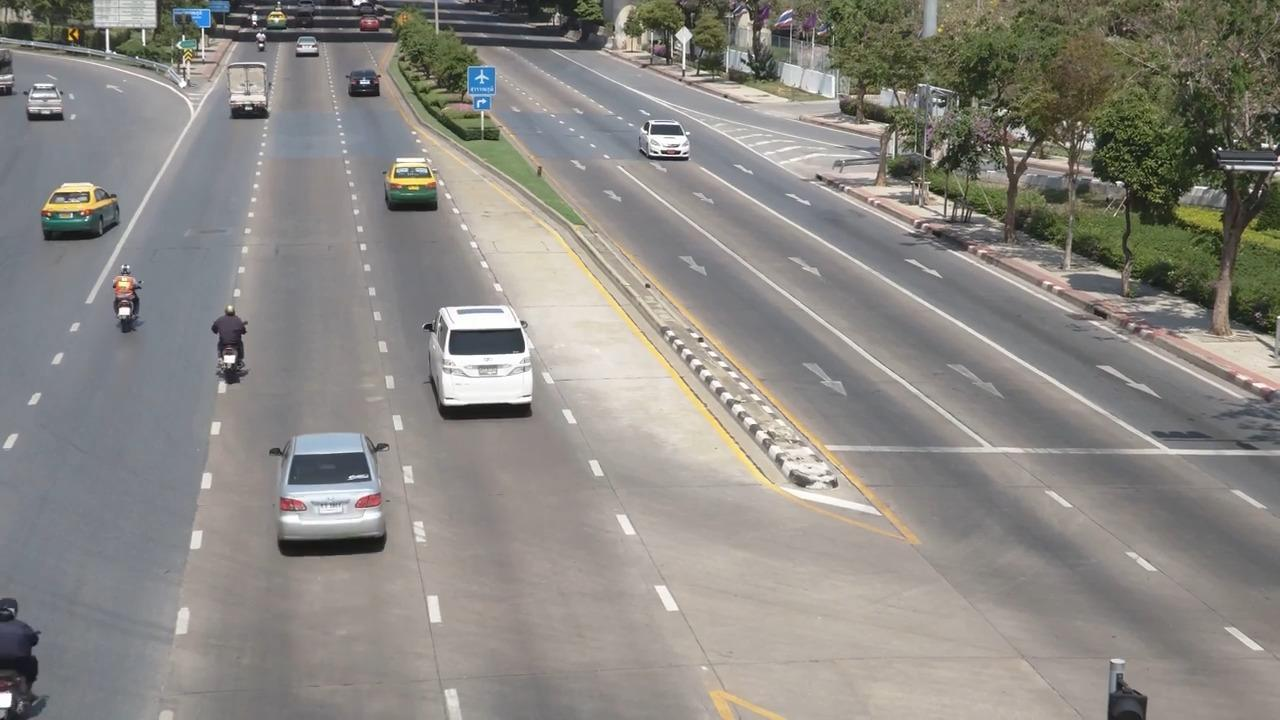CAR: (265, 427, 405, 563), (417, 294, 550, 428), (32, 174, 127, 247), (377, 150, 450, 224), (625, 111, 704, 170), (217, 60, 276, 130), (21, 77, 73, 135), (341, 64, 392, 109), (289, 32, 330, 71), (351, 5, 388, 42)
MOTOR: (0, 573, 62, 720), (191, 298, 262, 407), (91, 257, 158, 349), (247, 25, 274, 70)
